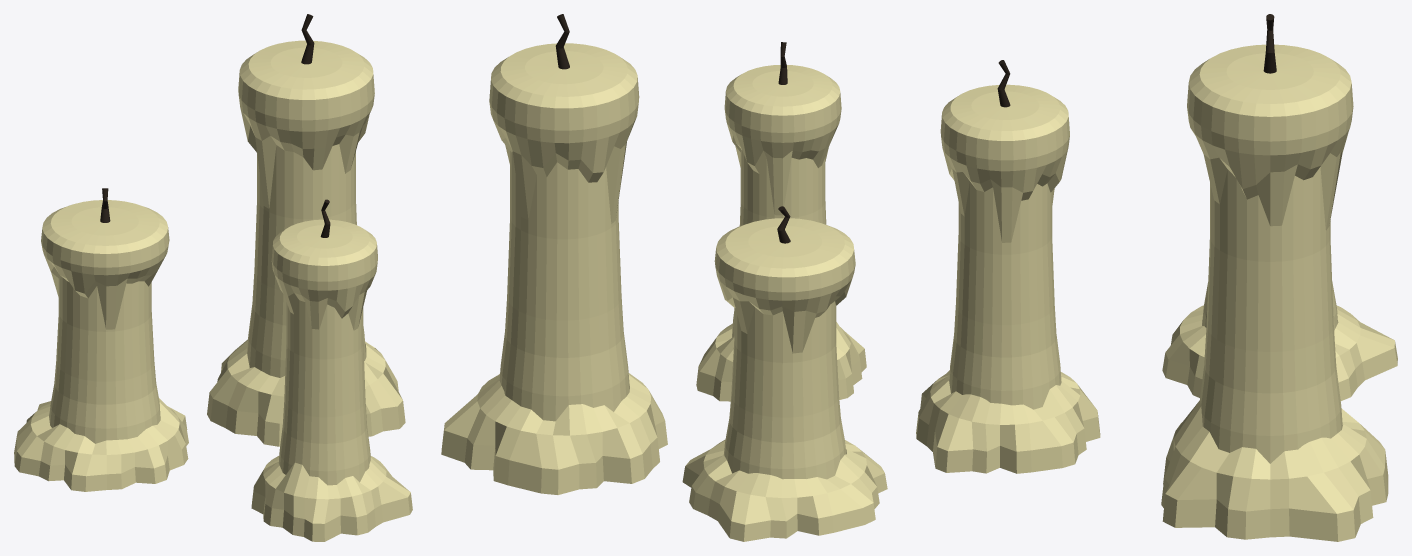
The model's file is candles.fbx.
3 renders of one model, left to right at view 1: azimuth 30°, elevation 25°; view 2: azimuth 150°, elevation 25°; view 3: azimuth 270°, elevation 25°, orthographic. The views are drawn at different scales.
Parts seen in each view (by area): view 1: CANDLE_3, CANDLE_1, CANDLE_2; view 2: CANDLE_1, CANDLE_3, CANDLE_2; view 3: CANDLE_1, CANDLE_2, CANDLE_3.
Part boxes in pixels (x1=…): CANDLE_3: x1=14, y1=188, x2=188, y2=491; CANDLE_1: x1=207, y1=14, x2=405, y2=446; CANDLE_2: x1=251, y1=199, x2=412, y2=541; CANDLE_1: x1=441, y1=14, x2=667, y2=494; CANDLE_3: x1=682, y1=206, x2=887, y2=541; CANDLE_2: x1=696, y1=42, x2=866, y2=401; CANDLE_1: x1=1161, y1=14, x2=1388, y2=541; CANDLE_2: x1=916, y1=60, x2=1100, y2=473; CANDLE_3: x1=1162, y1=282, x2=1397, y2=400.
Size of the model in its own units: 236 by 241 by 220.
